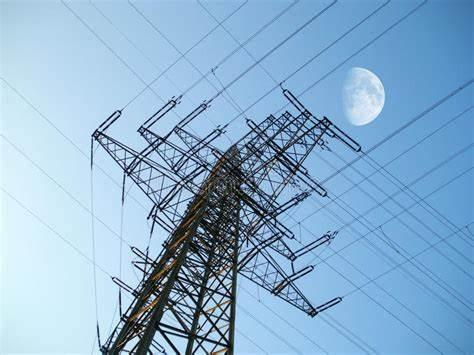power_tower: (75, 84, 362, 355)
